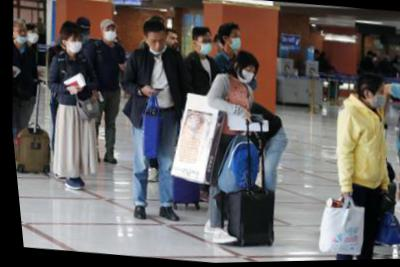NONE: (164, 35, 178, 51)
OK: (369, 87, 386, 112), (236, 66, 256, 87), (196, 37, 213, 57), (66, 36, 84, 54), (227, 33, 243, 52), (25, 28, 40, 45), (102, 27, 117, 43)
WRONG: (145, 36, 167, 56), (12, 27, 29, 45)
